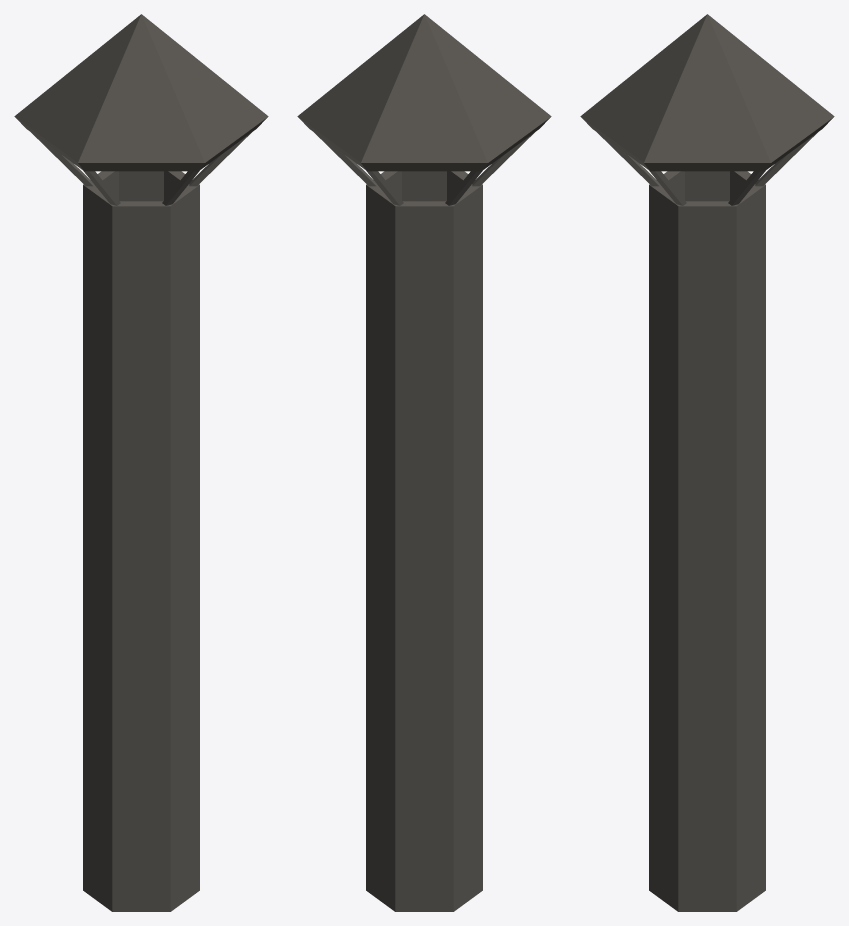
The model's file is SM_Props_Roof_Chimney_04.fbx.
3 renders of one model, left to right at view 1: azimuth 30°, elevation 25°; view 2: azimuth 150°, elevation 25°; view 3: azimuth 270°, elevation 25°, orthographic.
Visible parts, largest first — view 1: SM_Props_Roof_Chimney_04; view 2: SM_Props_Roof_Chimney_04; view 3: SM_Props_Roof_Chimney_04.
Boxes of the visible parts, x1=… form: SM_Props_Roof_Chimney_04: x1=14, y1=14, x2=268, y2=911; SM_Props_Roof_Chimney_04: x1=297, y1=14, x2=551, y2=911; SM_Props_Roof_Chimney_04: x1=580, y1=14, x2=834, y2=911.
Size of the model in its own units: 67.9 by 298 by 78.41.
